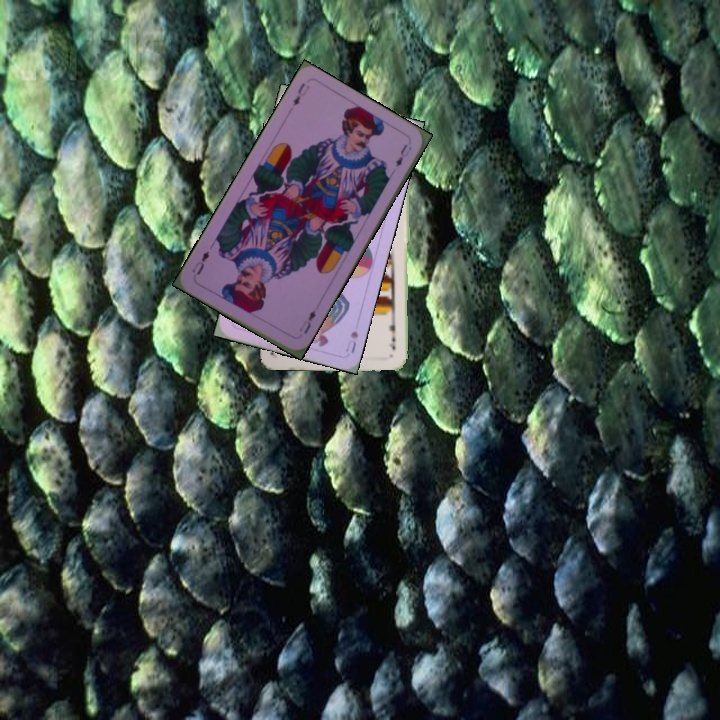E7: (385, 315, 398, 352)
EU: (295, 306, 319, 337), (289, 79, 312, 109)
SU: (341, 327, 361, 356)
